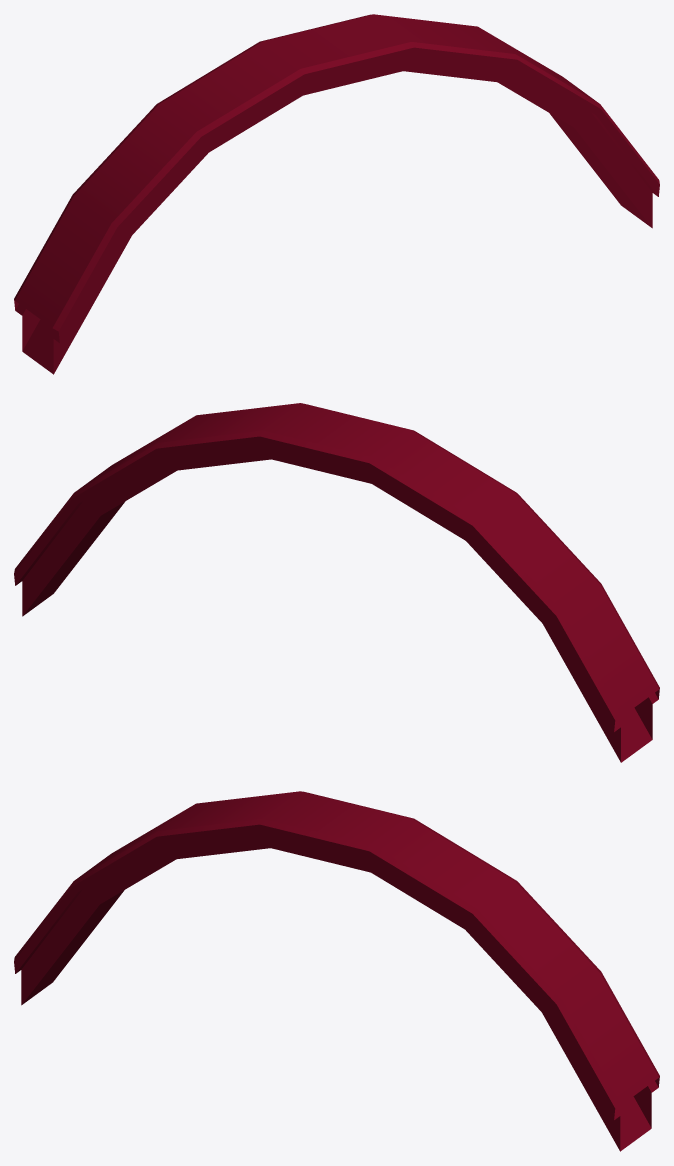
File: Torbogen.FBX
3 renders of one model, top to bottom at view 1: azimuth 30°, elevation 25°; view 2: azimuth 150°, elevation 25°; view 3: azimuth 330°, elevation 25°, orthographic.
Parts seen in each view (by area): view 1: Torbogen; view 2: Torbogen; view 3: Torbogen.
Part boxes in pixels (x1=…): Torbogen: x1=14, y1=14, x2=659, y2=374; Torbogen: x1=14, y1=403, x2=659, y2=762; Torbogen: x1=14, y1=791, x2=659, y2=1151.
Size of the model in its own units: 114 by 44.6 by 14.56.
